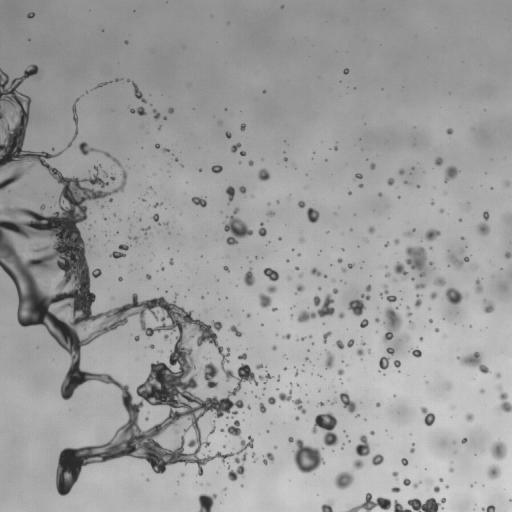droplet: (288, 437, 324, 472), (223, 208, 253, 245), (297, 294, 334, 322), (311, 412, 338, 446), (405, 246, 426, 269), (258, 285, 276, 308), (496, 386, 511, 412), (445, 288, 468, 304), (335, 471, 354, 489), (490, 440, 507, 460), (339, 392, 355, 413), (198, 494, 216, 511), (348, 299, 365, 316), (380, 284, 396, 302), (421, 407, 435, 426), (449, 255, 469, 268), (226, 420, 241, 437), (394, 262, 408, 280), (79, 142, 98, 155), (444, 166, 459, 182), (263, 268, 279, 281), (243, 268, 254, 286), (425, 228, 440, 241), (487, 464, 500, 479), (307, 207, 319, 223), (258, 168, 270, 181), (258, 372, 272, 383), (225, 186, 234, 202), (477, 223, 489, 235), (483, 300, 494, 313), (192, 197, 206, 207), (130, 106, 145, 115), (263, 452, 274, 464), (321, 500, 333, 511), (379, 356, 389, 369), (372, 454, 383, 465), (410, 347, 421, 357), (258, 223, 266, 236), (434, 277, 445, 286), (475, 279, 482, 293), (310, 267, 320, 276), (295, 284, 304, 294), (211, 165, 222, 173), (152, 213, 160, 224), (404, 229, 415, 237), (231, 143, 240, 152), (259, 402, 266, 413), (360, 318, 368, 327), (356, 348, 364, 357), (152, 109, 159, 119), (435, 157, 442, 166), (415, 283, 425, 289), (386, 347, 394, 354), (268, 396, 275, 404), (465, 414, 473, 421), (483, 211, 489, 220), (361, 294, 370, 300), (391, 486, 400, 492), (387, 178, 394, 185), (239, 186, 246, 193), (142, 226, 149, 233), (430, 292, 437, 299), (393, 360, 400, 367), (401, 458, 408, 465), (238, 353, 246, 359), (27, 12, 34, 18), (298, 201, 305, 207), (368, 226, 374, 233), (365, 285, 371, 292), (283, 333, 290, 339), (337, 369, 344, 375), (392, 471, 398, 478), (433, 486, 440, 492), (240, 123, 245, 131), (130, 236, 138, 241), (343, 68, 349, 74), (446, 128, 452, 134), (225, 132, 231, 138), (505, 252, 511, 258), (223, 266, 229, 272), (338, 312, 344, 318), (355, 173, 362, 178), (267, 211, 274, 216), (255, 364, 262, 369), (168, 107, 173, 113), (240, 151, 246, 156), (370, 163, 375, 169), (347, 263, 353, 268), (332, 288, 338, 293), (134, 335, 139, 341), (461, 438, 467, 443), (153, 203, 160, 207), (399, 169, 404, 174), (394, 239, 399, 244), (146, 274, 151, 279), (495, 373, 500, 378), (446, 382, 450, 388), (317, 402, 323, 406), (155, 143, 159, 148), (163, 148, 168, 152), (248, 161, 253, 165), (103, 172, 108, 176), (299, 238, 304, 242), (385, 242, 389, 247), (169, 259, 173, 264), (337, 258, 342, 262), (341, 268, 346, 272), (385, 272, 389, 277), (149, 344, 154, 348), (410, 447, 414, 452), (110, 176, 114, 180), (164, 222, 168, 226), (118, 277, 122, 281), (272, 307, 276, 311), (246, 313, 250, 317), (375, 318, 379, 322), (272, 346, 276, 350), (305, 357, 309, 361), (480, 389, 484, 393), (376, 402, 380, 406), (295, 416, 299, 420), (419, 273, 424, 276), (301, 337, 306, 340), (158, 126, 161, 130), (506, 181, 509, 185), (161, 266, 164, 270), (295, 266, 298, 270), (299, 273, 302, 277), (174, 293, 177, 297), (409, 321, 412, 325), (435, 328, 438, 332), (361, 341, 364, 345), (276, 376, 279, 380), (370, 431, 374, 434), (449, 468, 453, 471), (439, 478, 442, 482), (125, 40, 128, 43), (334, 146, 337, 149), (284, 157, 287, 160), (175, 158, 178, 161), (359, 184, 362, 187), (109, 198, 112, 201), (440, 209, 443, 212), (461, 236, 464, 239), (429, 262, 432, 265), (429, 319, 432, 322), (308, 335, 311, 338), (419, 337, 422, 340), (368, 349, 371, 352), (247, 405, 250, 408), (145, 417, 148, 420), (115, 79, 119, 81), (263, 90, 265, 93), (219, 121, 221, 124), (198, 169, 201, 171), (417, 185, 419, 188), (348, 192, 351, 194), (378, 193, 381, 195), (276, 201, 279, 203), (431, 202, 434, 204), (459, 218, 461, 221), (324, 275, 327, 277), (318, 287, 321, 289), (290, 314, 292, 317), (284, 367, 286, 370), (356, 414, 358, 417), (181, 473, 183, 476), (446, 485, 448, 488), (405, 181, 407, 183), (267, 203, 269, 205), (113, 214, 115, 216), (103, 217, 105, 219), (89, 225, 91, 227), (350, 229, 352, 231), (144, 235, 146, 237), (278, 237, 280, 239), (298, 254, 300, 256), (288, 277, 290, 279), (411, 278, 413, 280), (290, 383, 292, 385), (263, 388, 265, 390), (256, 396, 258, 398), (221, 429, 223, 431), (274, 446, 276, 448), (341, 446, 343, 448), (471, 484, 473, 486)
ligament: (0, 68, 253, 493), (345, 493, 445, 511), (457, 352, 490, 373), (383, 307, 402, 341), (278, 390, 306, 413), (67, 98, 79, 147), (353, 435, 370, 469), (132, 82, 146, 102), (110, 244, 129, 258), (335, 339, 354, 349), (325, 350, 334, 369), (403, 478, 420, 488), (229, 325, 241, 336), (323, 331, 331, 343), (414, 294, 421, 307), (482, 505, 495, 511), (208, 423, 215, 434), (95, 82, 107, 88), (406, 306, 411, 316), (251, 453, 256, 461), (508, 265, 511, 278), (331, 398, 336, 404), (294, 369, 298, 376)
